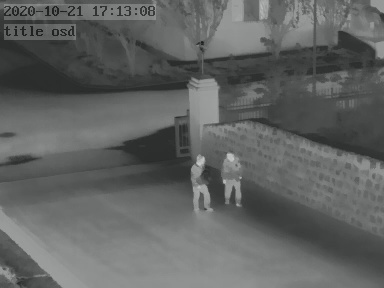person: (188, 151, 214, 211), (221, 149, 242, 209)
